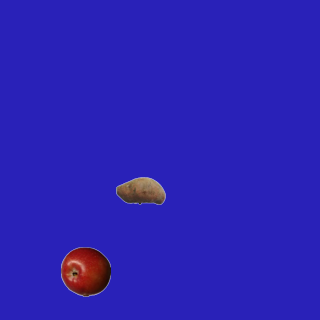Apple Braeburn: (60, 246, 110, 296)
Potato Sweet: (115, 165, 165, 215)
